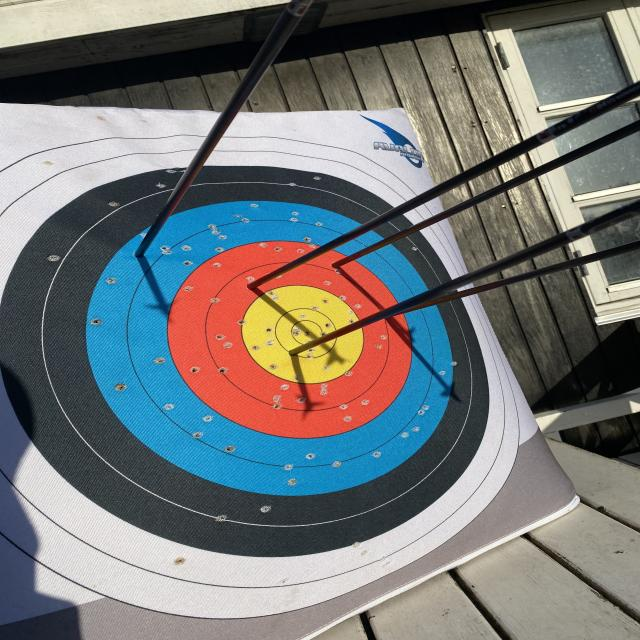Arrow_Blue: (120, 240, 165, 266)
Arrow_Red: (388, 239, 640, 313), (228, 272, 280, 305), (321, 249, 365, 276)
Arrow_Yellow: (274, 338, 319, 368)
